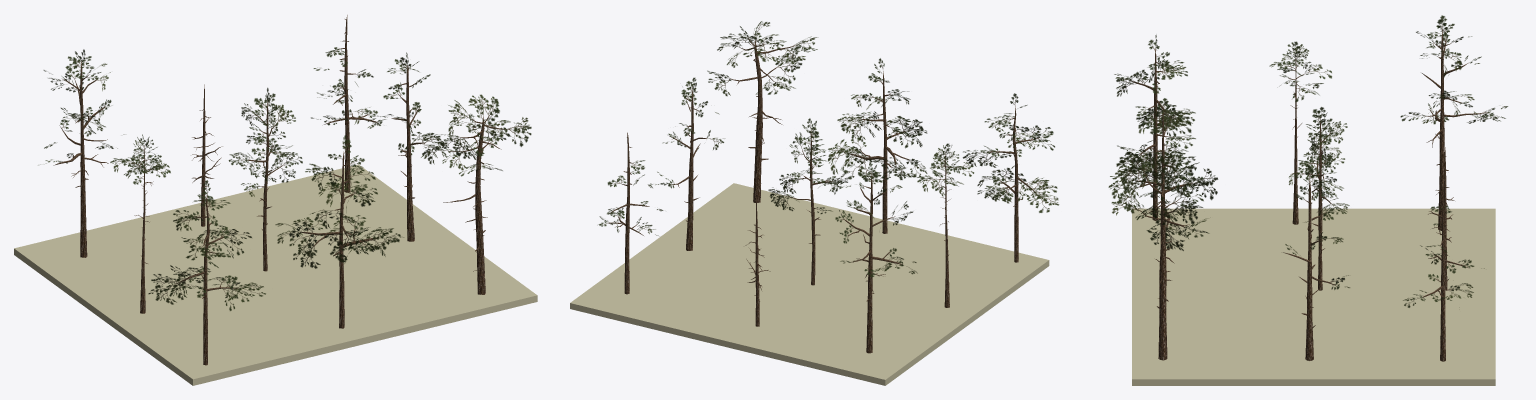
The model's file is pines_scots.glb.
3 renders of one model, left to right at view 1: azimuth 30°, elevation 25°; view 2: azimuth 150°, elevation 25°; view 3: azimuth 270°, elevation 25°, orthographic. The views are drawn at different scales.
Visible parts, largest first — view 1: Box001, 2_Foliage_mat1, 1_Foliage_mat1, 3_Foliage_mat1, 5_Foliage_mat1_Mat_Foliage_1_0, 3_Trunk, 1_Foliage_mat2, 2_Foliage_mat2, 5_Foliage_mat2_Material #28_0, 7_Trunk, 6_Trunk, 7_Foliage_mat2 (+12 smaller); view 2: Box001, 2_Foliage_mat1, 1_Foliage_mat1, 3_Foliage_mat1, 5_Foliage_mat1_Mat_Foliage_1_0, 3_Trunk, 1_Foliage_mat2, 7_Trunk, 6_Trunk, 5_Foliage_mat2_Material #28_0, 7_Foliage_mat2, 9_Trunk (+11 smaller); view 3: Box001, 2_Foliage_mat1, 3_Foliage_mat1, 1_Foliage_mat1, 5_Foliage_mat1_Mat_Foliage_1_0, 3_Trunk, 1_Foliage_mat2, 5_Foliage_mat2_Material #28_0, 6_Trunk, 7_Trunk, 7_Foliage_mat1, 9_Trunk (+10 smaller).
Boxes of the visible parts, x1,y1,x2,y2 form: Box001: (14, 164, 537, 385); 2_Foliage_mat1: (275, 163, 403, 268); 1_Foliage_mat1: (148, 198, 265, 310); 3_Foliage_mat1: (422, 94, 531, 176); 5_Foliage_mat1_Mat_Foliage_1_0: (228, 103, 302, 196); 3_Trunk: (475, 116, 485, 294); 1_Foliage_mat2: (188, 180, 249, 297); 2_Foliage_mat2: (289, 135, 373, 262); 5_Foliage_mat2_Material #28_0: (240, 87, 293, 188); 7_Trunk: (80, 61, 87, 257); 6_Trunk: (406, 65, 414, 241); 7_Foliage_mat2: (44, 49, 111, 163); Box001: (570, 183, 1049, 385); 2_Foliage_mat1: (828, 91, 927, 181); 1_Foliage_mat1: (963, 117, 1058, 212); 3_Foliage_mat1: (707, 21, 817, 96); 5_Foliage_mat1_Mat_Foliage_1_0: (768, 132, 848, 213); 3_Trunk: (753, 40, 762, 202); 1_Foliage_mat2: (980, 93, 1052, 200); 7_Trunk: (866, 172, 872, 353); 6_Trunk: (686, 88, 693, 250); 5_Foliage_mat2_Material #28_0: (781, 118, 839, 208); 7_Foliage_mat2: (835, 162, 896, 277); 9_Trunk: (624, 132, 629, 294); Box001: (1132, 208, 1495, 385); 2_Foliage_mat1: (1108, 110, 1218, 250); 3_Foliage_mat1: (1111, 150, 1209, 237); 1_Foliage_mat1: (1114, 60, 1195, 173); 5_Foliage_mat1_Mat_Foliage_1_0: (1289, 121, 1349, 217); 3_Trunk: (1158, 180, 1167, 360); 1_Foliage_mat2: (1115, 34, 1181, 157); 5_Foliage_mat2_Material #28_0: (1294, 107, 1338, 206); 6_Trunk: (1305, 178, 1313, 360); 7_Trunk: (1438, 30, 1444, 230); 7_Foliage_mat1: (1400, 31, 1507, 124); 9_Trunk: (1440, 182, 1445, 361).
Size of the model in its own units: 601 by 314 by 553.
Materials: 4 (3 with a texture image).
